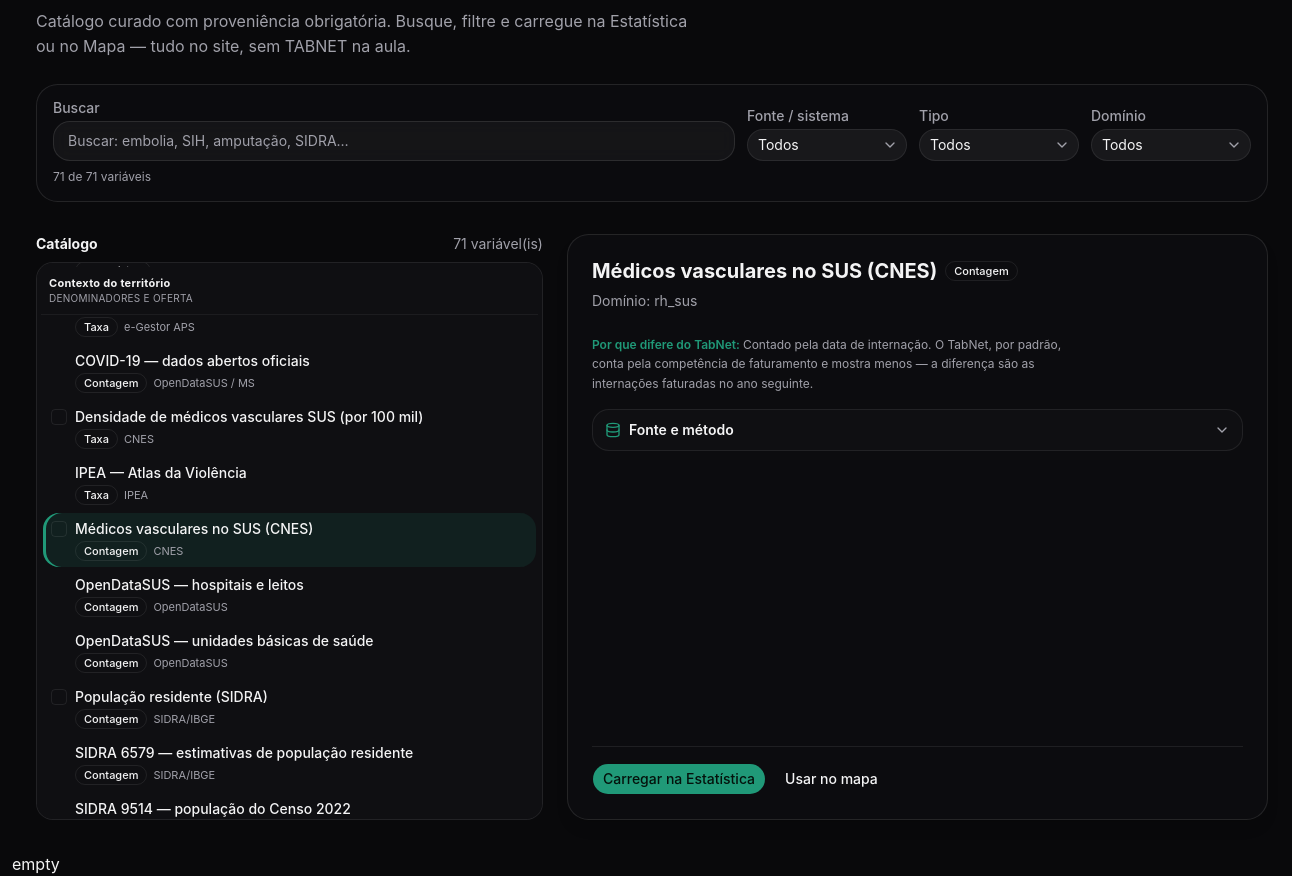
Test case: VariaveisPage › keeps source and method closed and removes unsafe suggested tests in direct catalog mode
(page scrolled)
Expected: the text "Médicos vasculares no SUS (CNES)" is shown, x1=75 y1=520 x2=314 y2=540
Click the button "Médicos vasculares no SUS (CNES) Contagem CNES".
click(194, 529)  # box x1=75 y1=520 x2=528 y2=562
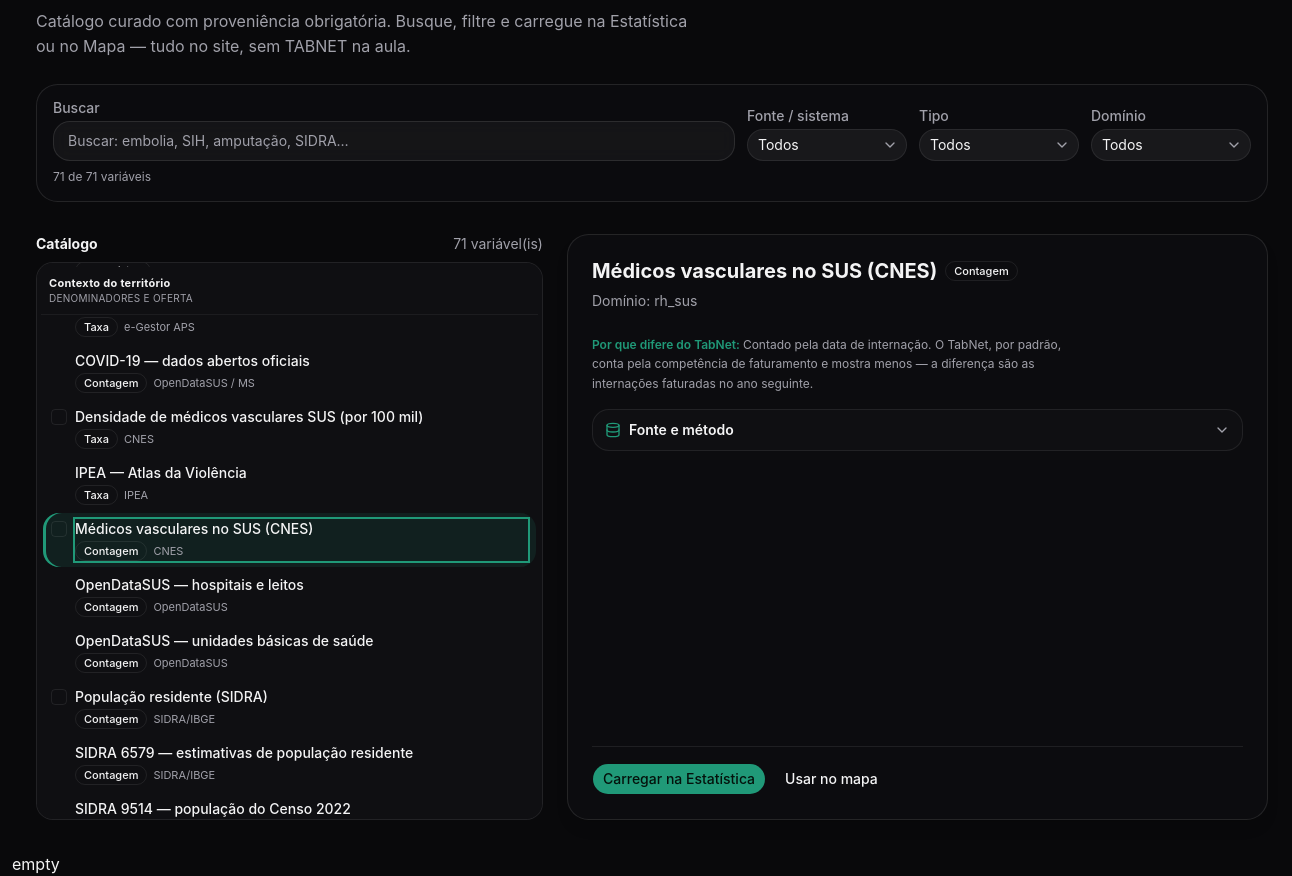
Expected: the text "cnes/cnv/prid02br.def" is not shown
Click the button "Fonte e método".
click(681, 430)  # box x1=593 y1=410 x2=1242 y2=450
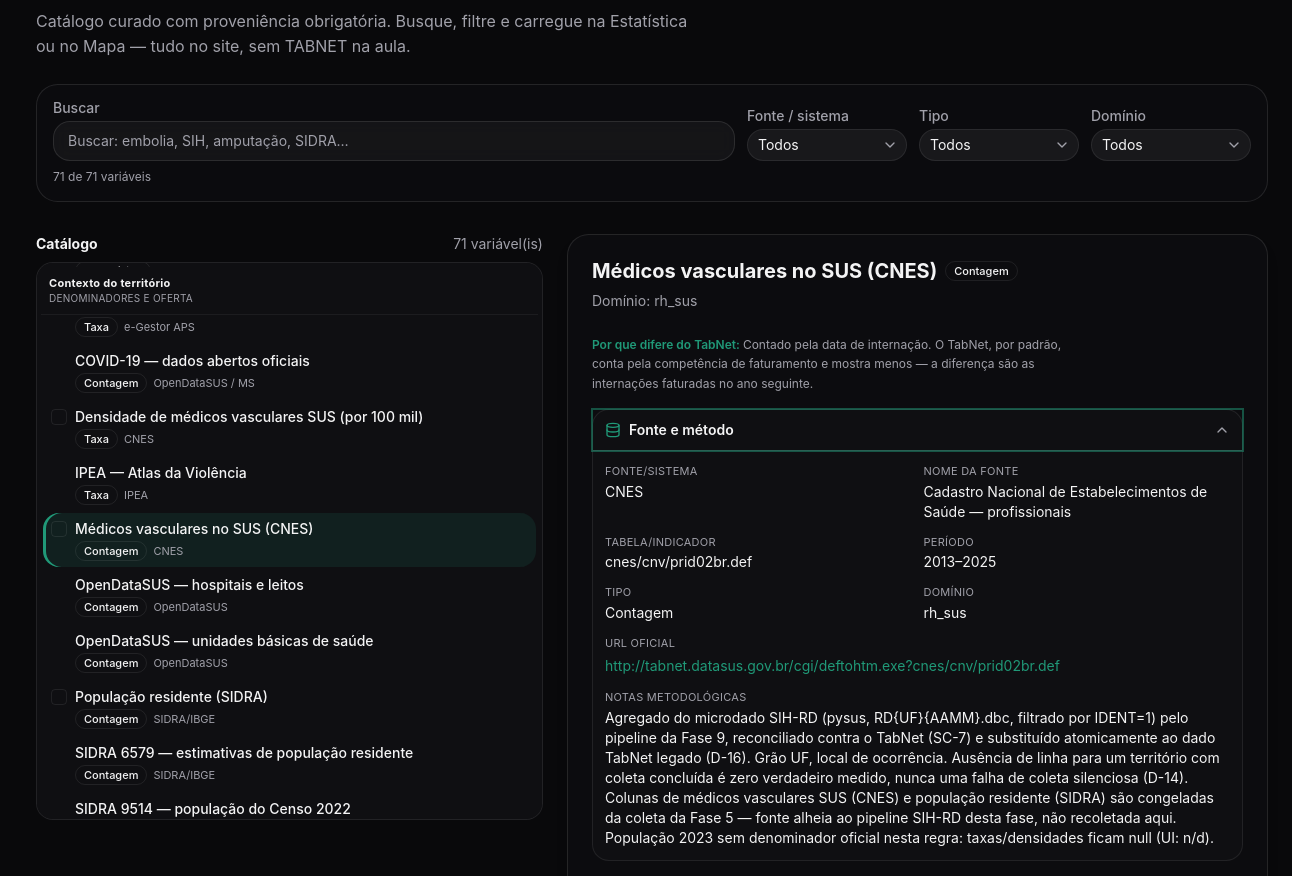
Result: the text "CNES" below "Fonte/sistema" is shown at x1=605 y1=483 x2=643 y2=500
Result: the text "cnes/cnv/prid02br.def" is shown at x1=605 y1=554 x2=752 y2=570
Result: the text "2013–2025" is shown at x1=924 y1=554 x2=996 y2=570
